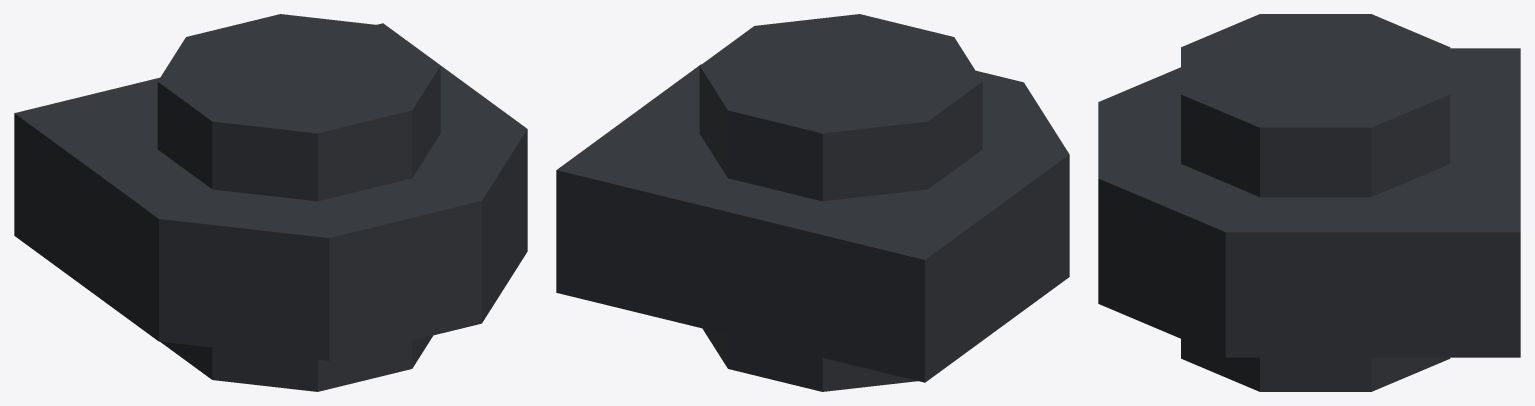
Rendered from SM_Prop_Kitchen_Monitor_01_Swivel_01.obj.
3 renders of one model, left to right at view 1: azimuth 30°, elevation 25°; view 2: azimuth 150°, elevation 25°; view 3: azimuth 270°, elevation 25°, orthographic. The views are drawn at different scales.
Visible parts, largest first — view 1: SM_Prop_Kitchen_Monitor_01_Swivel_01_0; view 2: SM_Prop_Kitchen_Monitor_01_Swivel_01_0; view 3: SM_Prop_Kitchen_Monitor_01_Swivel_01_0.
Boxes of the visible parts, x1=… form: SM_Prop_Kitchen_Monitor_01_Swivel_01_0: x1=14, y1=14, x2=527, y2=391; SM_Prop_Kitchen_Monitor_01_Swivel_01_0: x1=556, y1=14, x2=1069, y2=391; SM_Prop_Kitchen_Monitor_01_Swivel_01_0: x1=1098, y1=14, x2=1520, y2=391.
Bounding box in the file's own units: 0.1938 × 0.1298 × 0.1883.
1 material, 1 textured.
